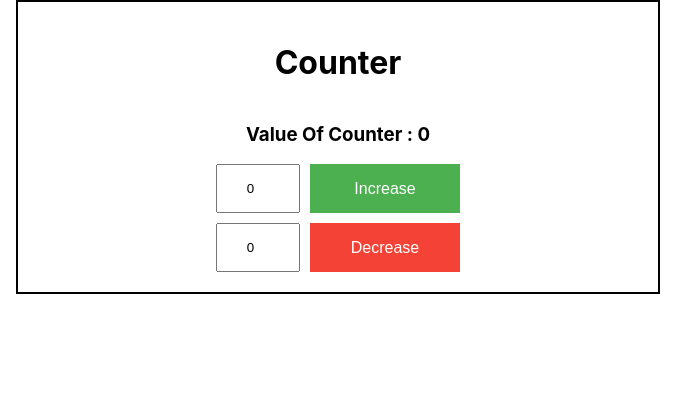
Test: counter Component › decrement counter when decrease button is clicked
Type "5" into the number field with test id "value_dec". click: (258, 248)
box: [216, 223, 300, 272]
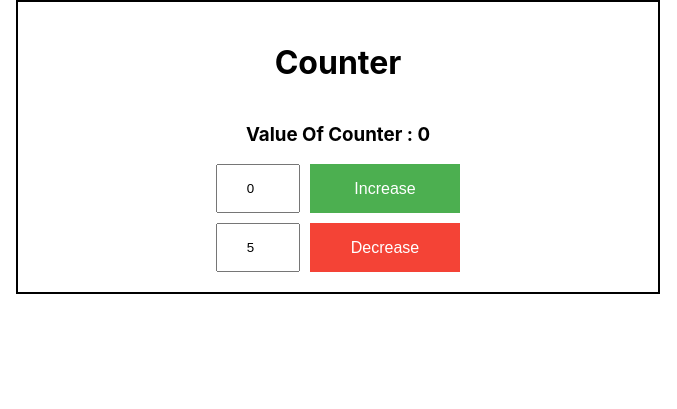
Click the button with test id "button_dec". click: (385, 248)
box: [310, 223, 460, 272]
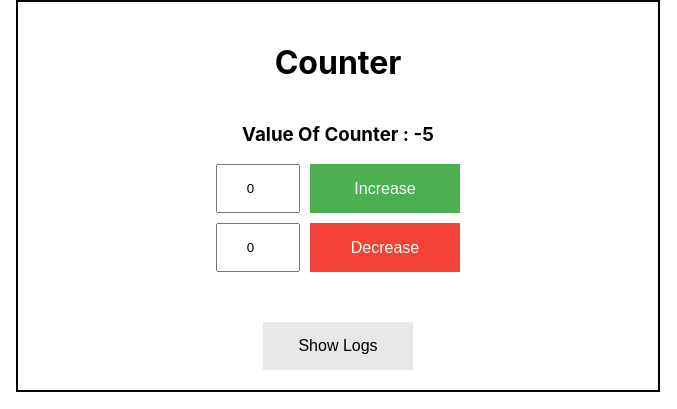
Check: the heading with test id "counter-value" reads "Value Of Counter : -5", box [242, 123, 434, 146]
